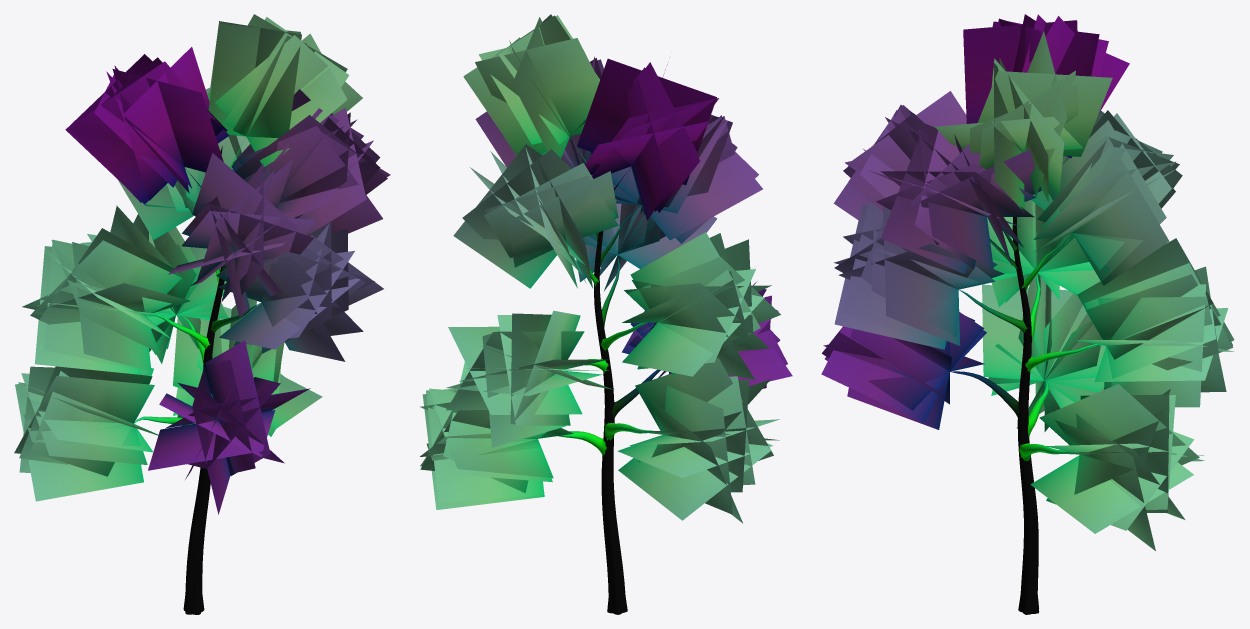
Rendered from URP_P6_Tree_1_LOD_1.fbx.
The picture shows the model from 3 angles, left to right: view 1: azimuth 30°, elevation 25°; view 2: azimuth 150°, elevation 25°; view 3: azimuth 270°, elevation 25°; orthographic projection. The views are drawn at different scales.
Visible parts, largest first — view 1: Tree_1_LOD_1; view 2: Tree_1_LOD_1; view 3: Tree_1_LOD_1.
Boxes of the visible parts, <box> form: Tree_1_LOD_1: <box>14,14,390,614</box>; Tree_1_LOD_1: <box>420,14,792,614</box>; Tree_1_LOD_1: <box>821,14,1234,614</box>.
Size of the model in its own units: 508 by 866 by 545.
